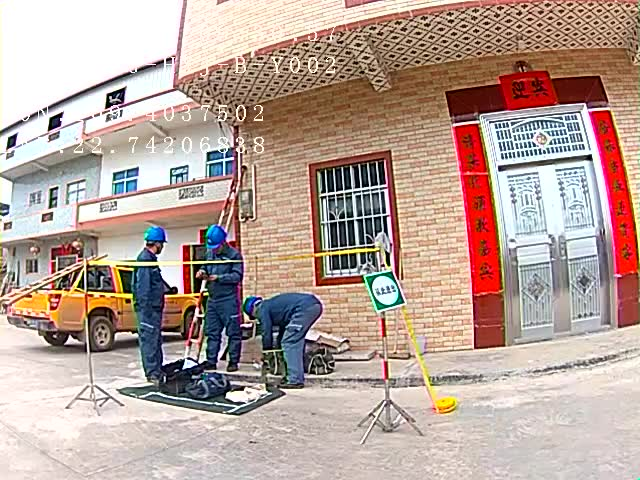halt: (208, 228, 232, 256), (146, 229, 170, 256), (247, 298, 266, 322)
